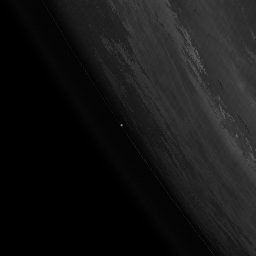Target: (119, 123, 123, 127)
